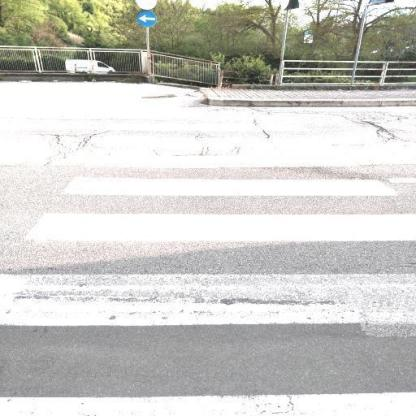crosswalk: (53, 152, 403, 206), (107, 109, 312, 135)
